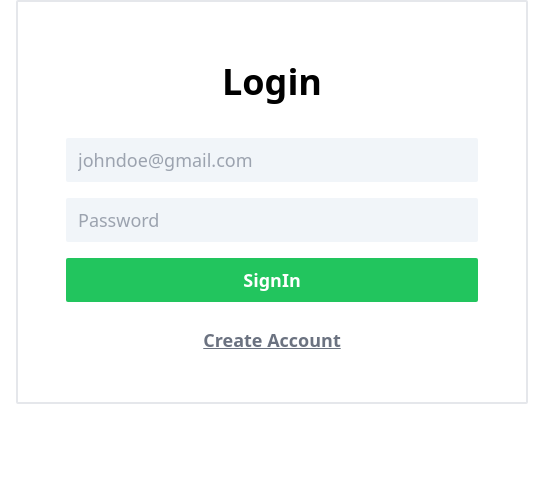
Test: Login error messages are working correctly or not.
Click the button "SignIn" at coordinates (272, 280), box [66,258,478,302]
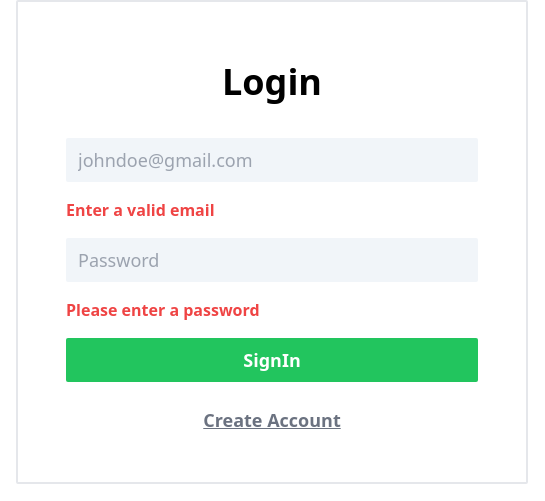
Expected: the text "Enter a valid email" is shown, [66,198,214,222]
Expected: the text "Please enter a password" is shown, [66,298,260,322]
